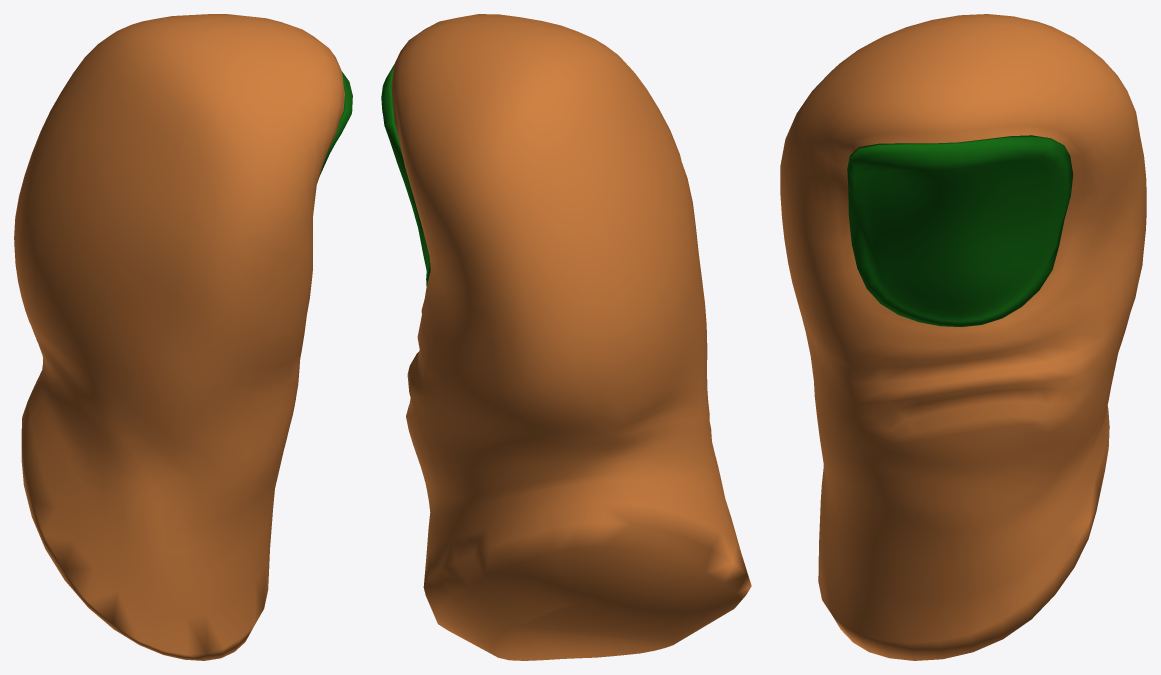
Rendered from toeSkeleton.obj.
The picture shows the model from 3 angles, left to right: view 1: azimuth 30°, elevation 25°; view 2: azimuth 150°, elevation 25°; view 3: azimuth 270°, elevation 25°; orthographic projection. The views are drawn at different scales.
Parts seen in each view (by area): view 1: Pale_FootSub2.001_FootSub2_Geo.006_Pale, Pale_FootSub2.001_FootSub2_Geo.006_Green; view 2: Pale_FootSub2.001_FootSub2_Geo.006_Pale, Pale_FootSub2.001_FootSub2_Geo.006_Green; view 3: Pale_FootSub2.001_FootSub2_Geo.006_Pale, Pale_FootSub2.001_FootSub2_Geo.006_Green.
Boxes of the visible parts, <box> form: Pale_FootSub2.001_FootSub2_Geo.006_Pale: <box>14,14,344,660</box>; Pale_FootSub2.001_FootSub2_Geo.006_Green: <box>318,72,352,178</box>; Pale_FootSub2.001_FootSub2_Geo.006_Pale: <box>391,14,751,660</box>; Pale_FootSub2.001_FootSub2_Geo.006_Green: <box>381,65,430,286</box>; Pale_FootSub2.001_FootSub2_Geo.006_Pale: <box>780,14,1146,660</box>; Pale_FootSub2.001_FootSub2_Geo.006_Green: <box>847,135,1073,326</box>.
Bounding box in the file's own units: 1.61 × 2.97 × 1.57.
